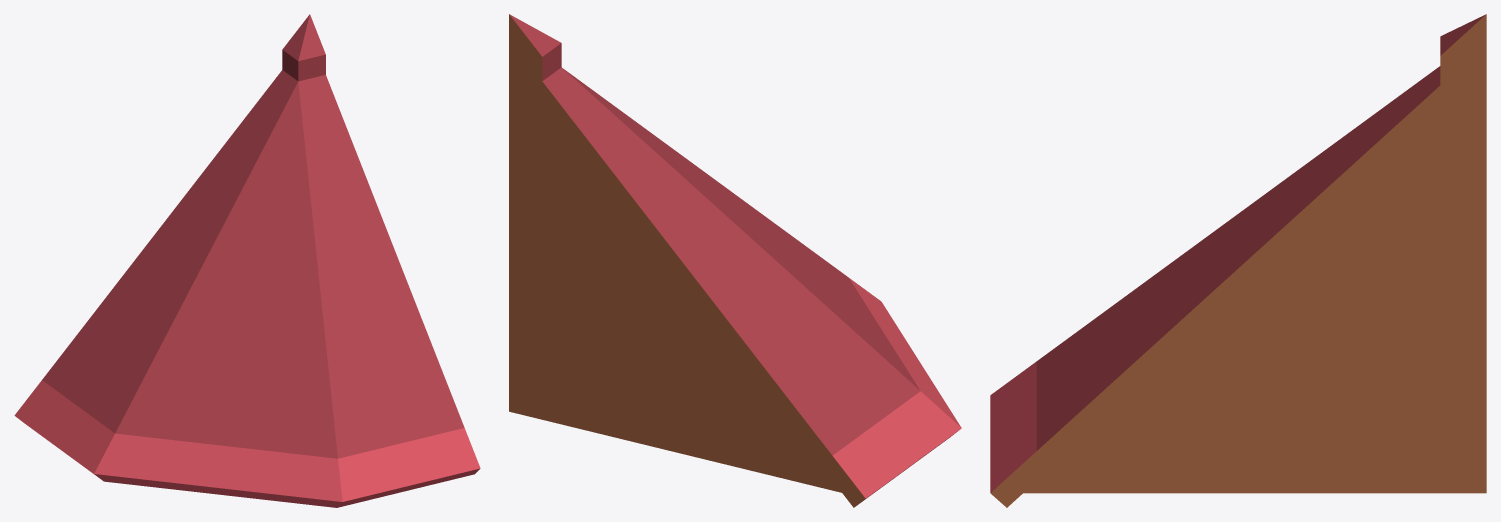
The model's file is roofHighCornerRound.obj.
3 views of the same model, side by side, from view 1: azimuth 30°, elevation 25°; view 2: azimuth 150°, elevation 25°; view 3: azimuth 270°, elevation 25° (orthographic). The views are drawn at different scales.
Parts seen in each view (by area): view 1: roofHighCornerRound; view 2: roofHighCornerRound; view 3: roofHighCornerRound.
Part boxes in pixels (left/top/right/bottom): roofHighCornerRound: left=14, top=14, right=480, bottom=507; roofHighCornerRound: left=509, top=14, right=961, bottom=507; roofHighCornerRound: left=990, top=14, right=1486, bottom=507.
Size of the model in its own units: 1.07 by 1.18 by 1.07.
